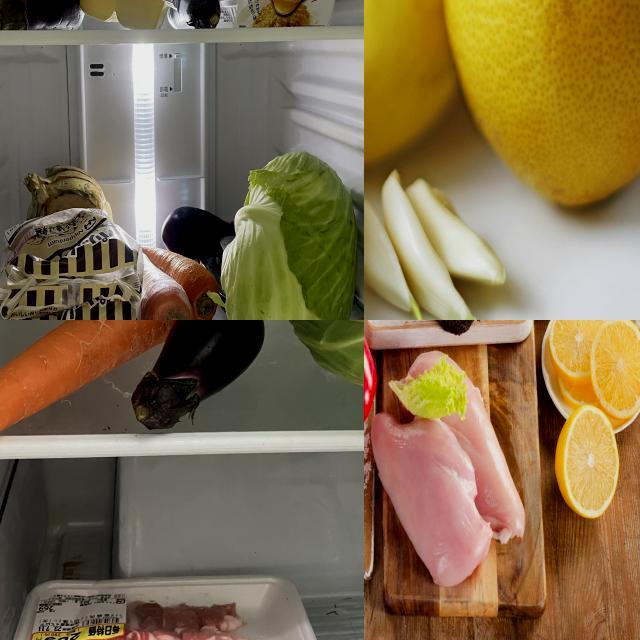cabbage: (222, 153, 365, 321)
carrot: (1, 321, 209, 460), (143, 247, 223, 321), (138, 250, 194, 321)
eggplant: (128, 321, 268, 437), (166, 209, 238, 263), (1, 1, 85, 33), (170, 1, 221, 30)
garlic: (365, 162, 499, 321)
onion: (24, 163, 114, 231)
